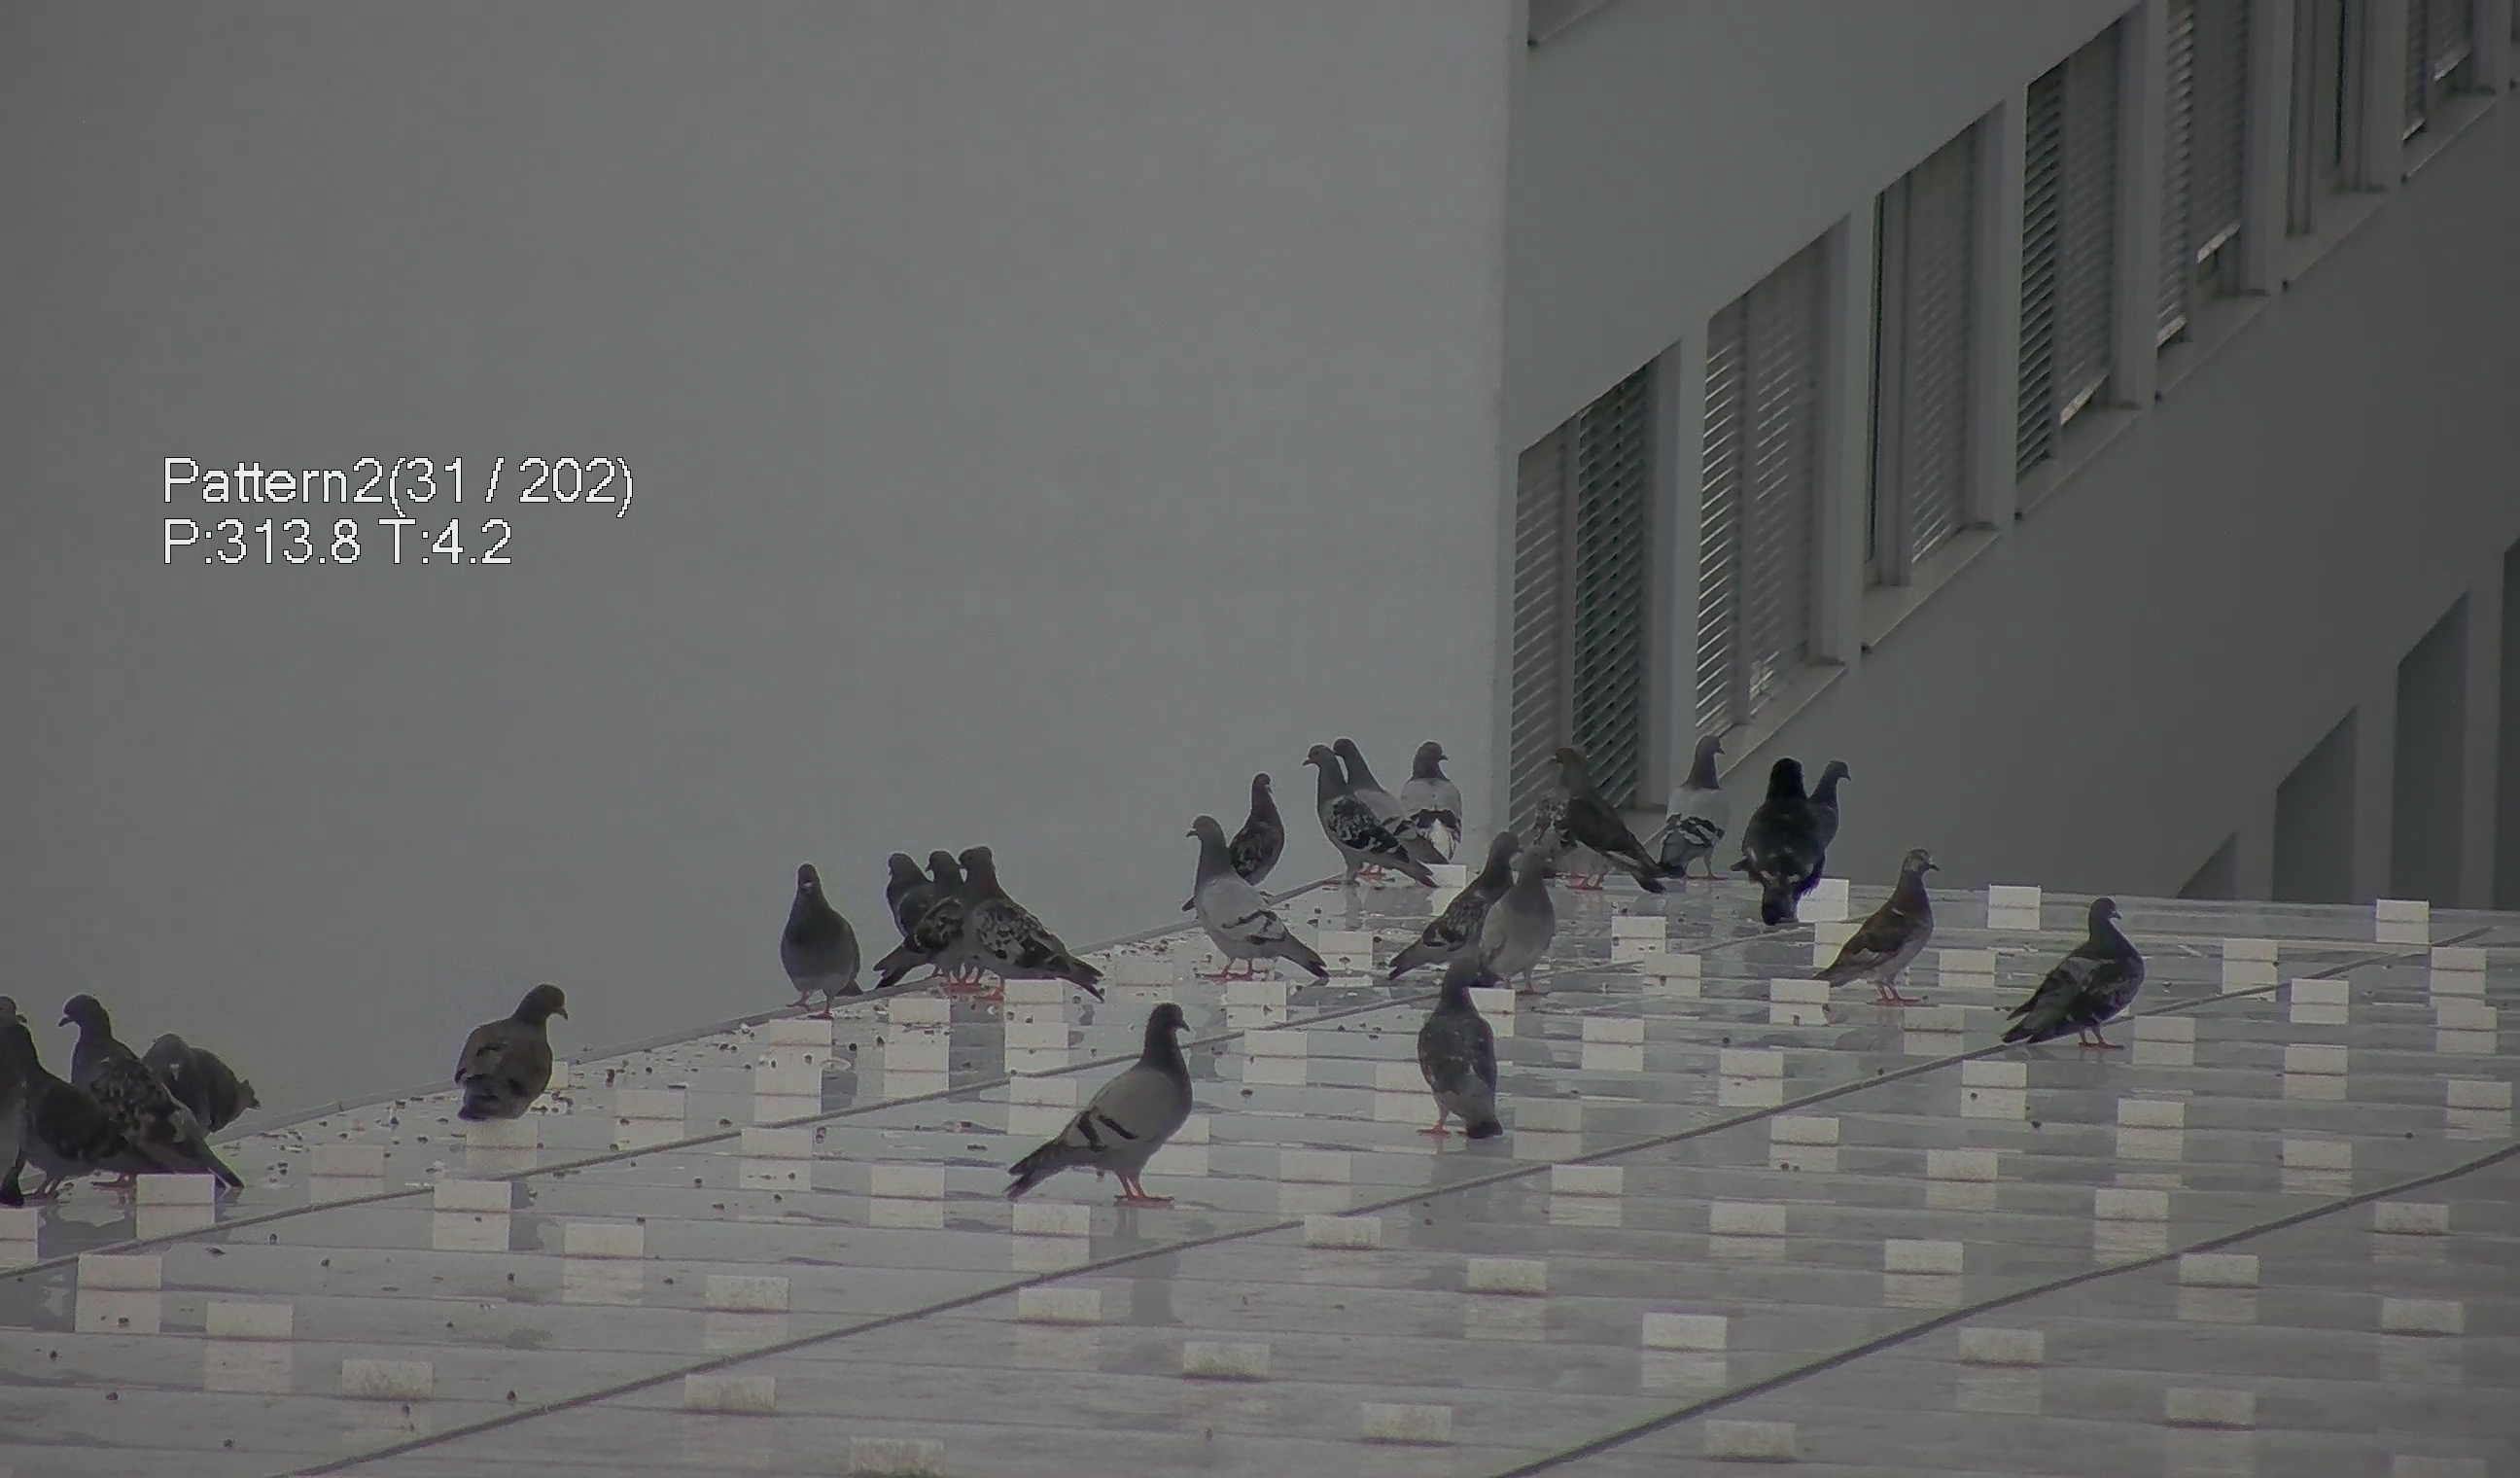Pigeon: (1008, 1005, 1206, 1218), (1178, 765, 1324, 987), (40, 998, 199, 1175), (130, 1010, 306, 1167), (955, 845, 1110, 1015), (2007, 896, 2156, 1068), (1825, 845, 1956, 1010), (1447, 846, 1576, 1010), (431, 977, 564, 1131), (1412, 962, 1521, 1140), (1551, 744, 1671, 899), (1298, 741, 1410, 904), (761, 859, 869, 1019), (1729, 753, 1829, 918), (1410, 820, 1523, 964), (1655, 711, 1729, 885), (1208, 755, 1300, 892), (883, 846, 971, 980), (1402, 741, 1472, 869), (1804, 753, 1859, 836)
